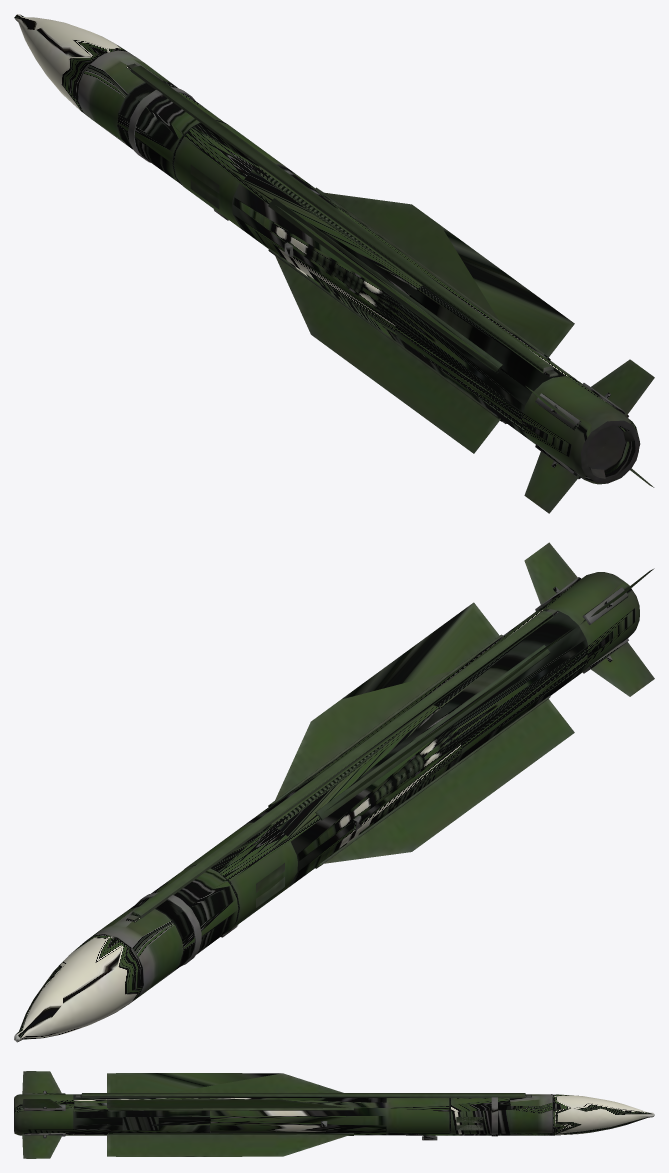
Rendered from msl_buk_lo.glb.
3 renders of one model, top to bottom at view 1: azimuth 30°, elevation 25°; view 2: azimuth 150°, elevation 25°; view 3: azimuth 270°, elevation 25°, orthographic. The views are drawn at different scales.
Parts seen in each view (by area): view 1: body|M38_atlas; view 2: body|M38_atlas; view 3: body|M38_atlas.
Boxes of the visible parts, x1,y1,x2,y2 form: body|M38_atlas: (14, 14, 654, 513); body|M38_atlas: (14, 542, 654, 1042); body|M38_atlas: (14, 1071, 654, 1158).
Bounding box in the file's own units: 0.6364 × 0.6437 × 6.2.
1 material, 1 textured.
